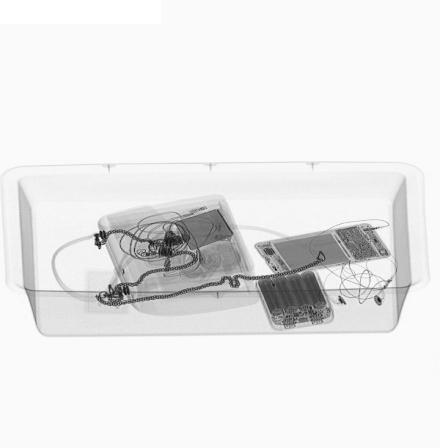Powerbank: (258, 269, 334, 331)
